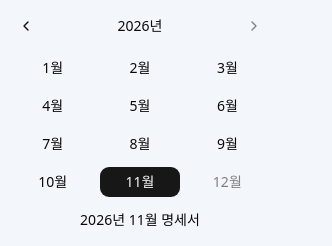
Test: month: picks a month of this or an earlier year, never a future one
Expected: the message shows "2026년 11월", [80,210,200,229]
Expected: the button "12월" is disabled, [187,166,268,198]
Click the button named "이전 해" at point(26, 26), box [12,12,40,40]
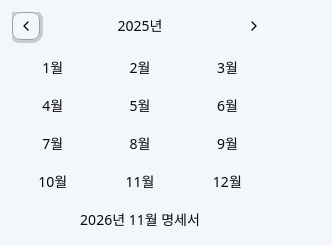
Click the button "3월" at point(227, 68), box [187,52,268,84]
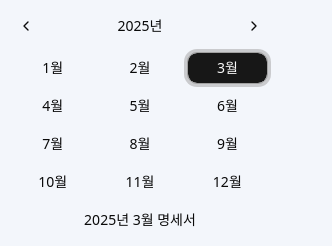
Now the message shows "2025년 3월", box [84,210,196,229]
